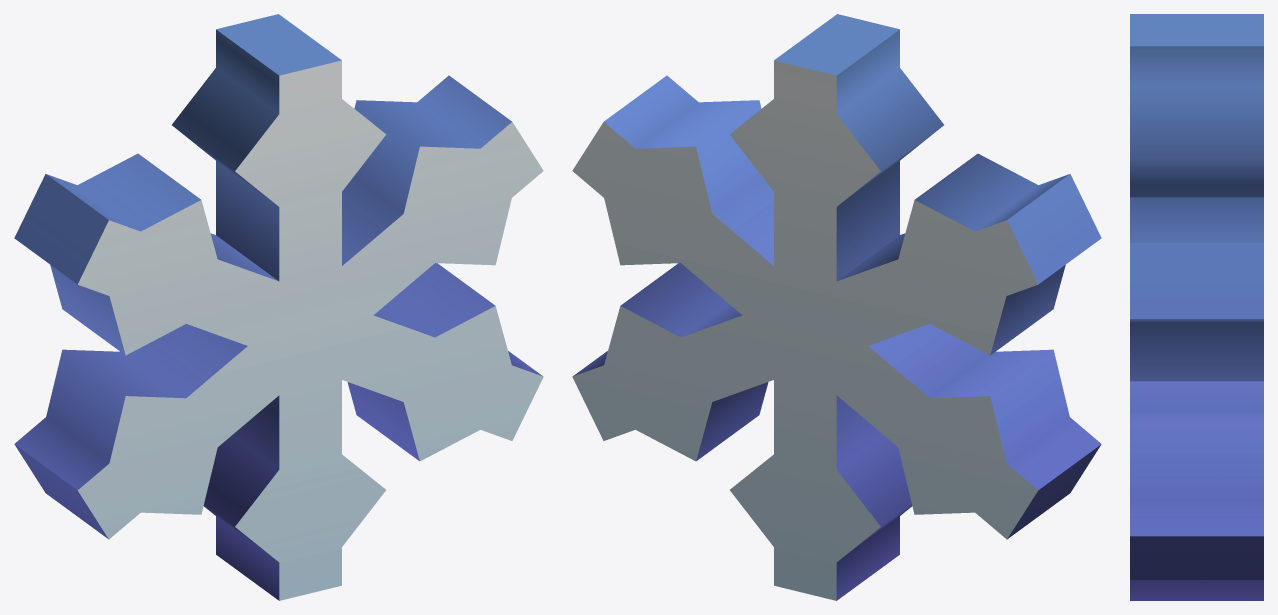
The model's file is kenney-holiday-snowflake-b.glb.
3 views of the same model, side by side, from view 1: azimuth 30°, elevation 25°; view 2: azimuth 150°, elevation 25°; view 3: azimuth 270°, elevation 25° (orthographic). The views are drawn at different scales.
Visible parts, largest first — view 1: snowflake-b; view 2: snowflake-b; view 3: snowflake-b.
Part boxes in pixels (bbox=[...]): snowflake-b: bbox=[14, 14, 543, 600]; snowflake-b: bbox=[572, 14, 1101, 600]; snowflake-b: bbox=[1130, 14, 1263, 600].
Bounding box in the file's own units: 0.3714 × 0.4 × 0.0875.
1 material, 1 textured.
